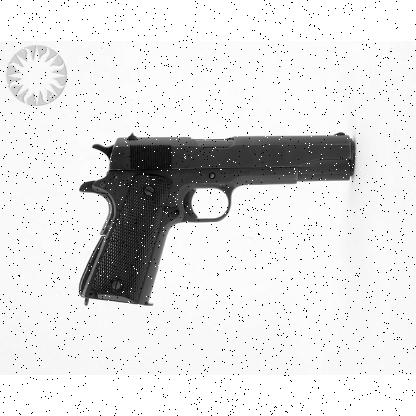gun: (77, 131, 356, 307)
